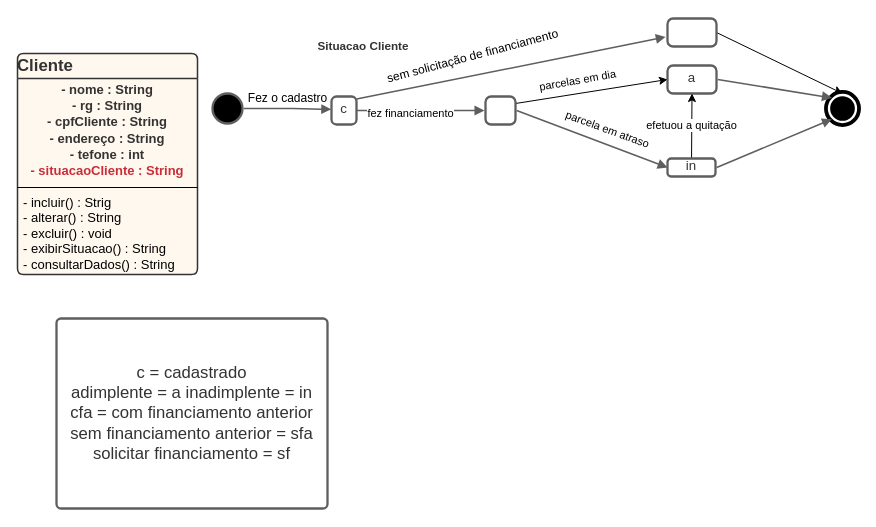
Image size: 876x527. Some labels were removed from this diagram. Each missing label, with the centre of its shape:
cfa: [500,110]
sfa: [691,32]
